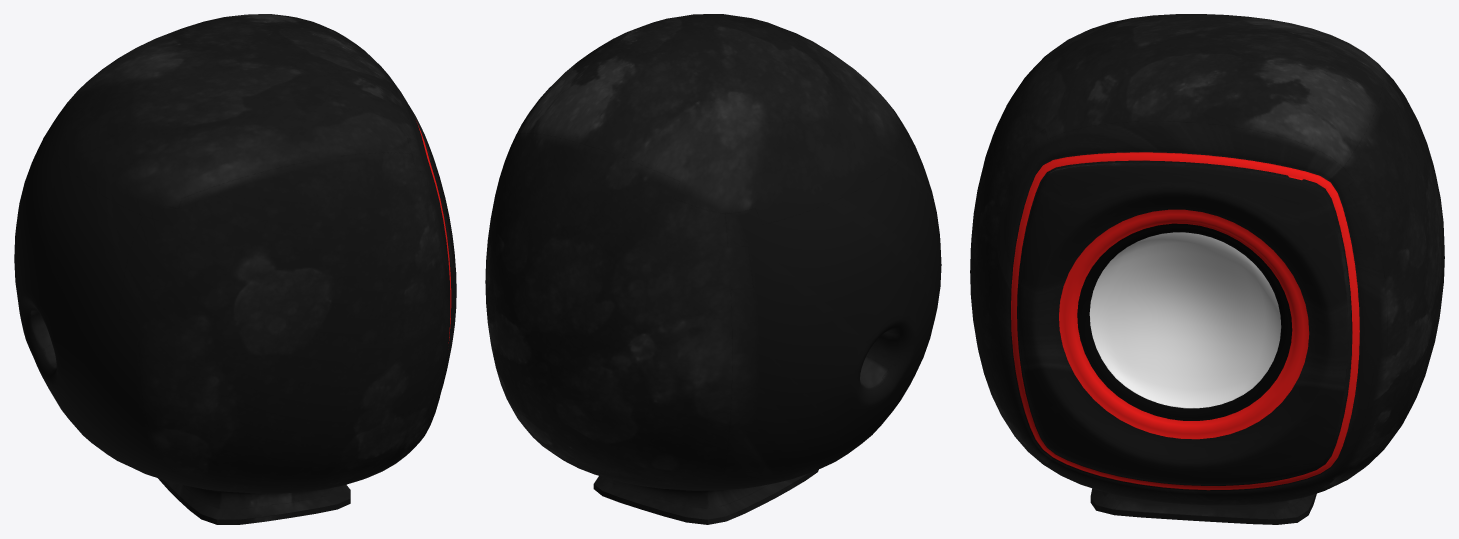
Rendered from 1Speakers.fbx.
3 views of the same model, side by side, from view 1: azimuth 30°, elevation 25°; view 2: azimuth 150°, elevation 25°; view 3: azimuth 270°, elevation 25° (orthographic). The views are drawn at different scales.
Parts seen in each view (by area): view 1: Speaker.001; view 2: Speaker.001; view 3: Speaker.001.
Boxes of the visible parts, x1,y1,x2,y2 form: Speaker.001: [14, 14, 456, 524]; Speaker.001: [485, 14, 941, 524]; Speaker.001: [970, 14, 1444, 524].
Bounding box in the file's own units: 153 × 172 × 164.
1 material, 1 textured.
